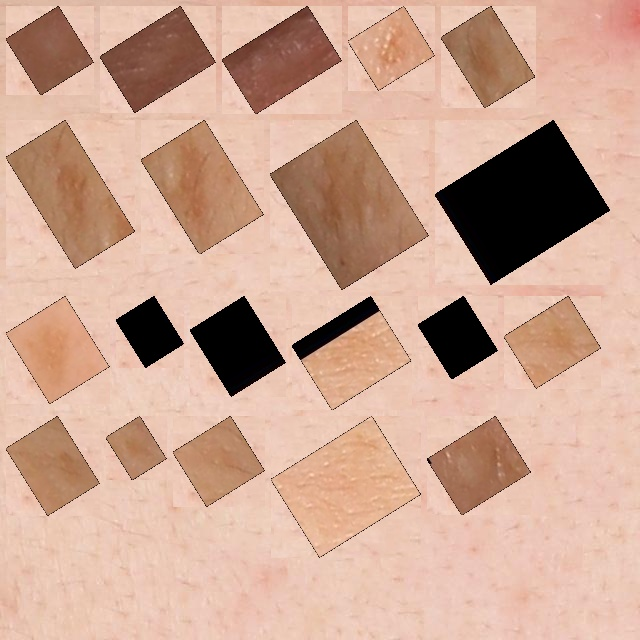hypertrophic_scar: (233, 17, 331, 103), (111, 17, 205, 101), (438, 427, 520, 504), (17, 17, 83, 84)
melasma: (446, 131, 599, 273), (281, 131, 418, 278), (282, 427, 410, 546), (17, 131, 124, 257), (152, 131, 252, 243), (303, 307, 400, 399), (17, 307, 98, 392), (201, 307, 275, 385), (452, 17, 524, 97), (17, 427, 89, 504), (515, 307, 590, 377), (184, 427, 254, 495), (359, 17, 424, 79), (429, 307, 487, 368), (127, 307, 173, 356), (117, 427, 155, 469)
